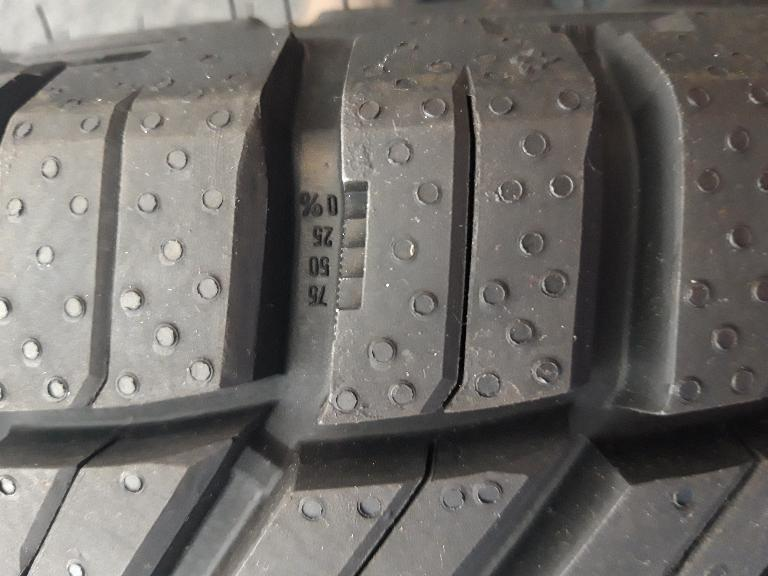temoin:100: (330, 178, 371, 337)
